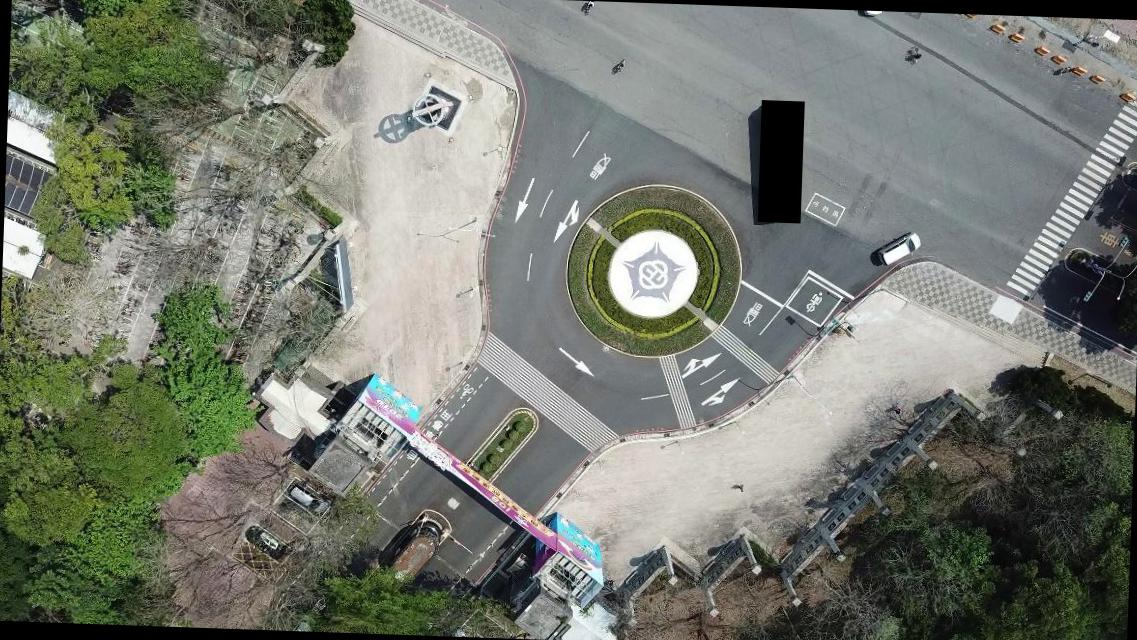vehicle: (876, 230, 921, 266), (246, 525, 290, 560), (288, 478, 329, 514), (291, 614, 319, 630)
